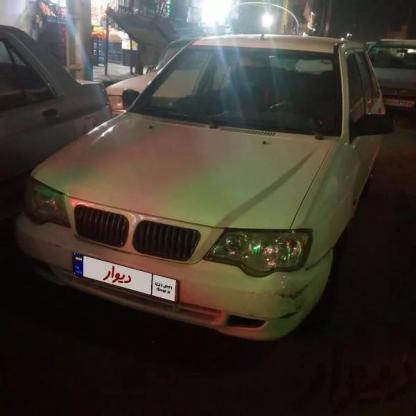Car: (12, 39, 392, 349), (0, 7, 109, 180), (339, 31, 416, 112)
